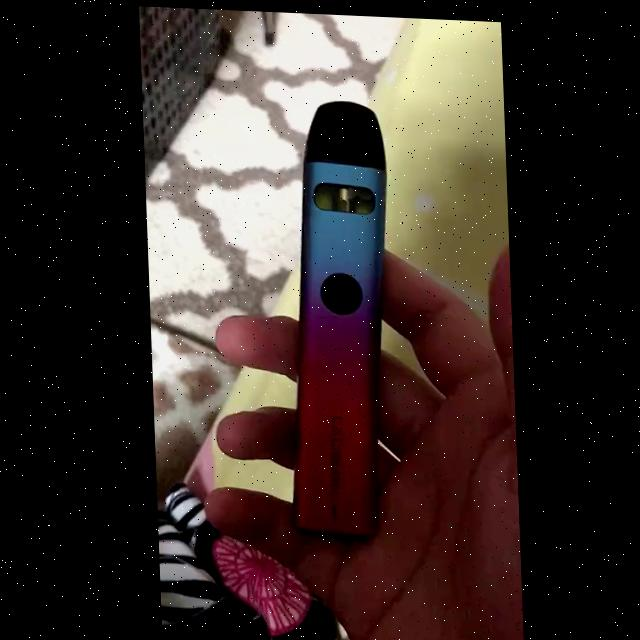vape: (272, 93, 398, 540)
